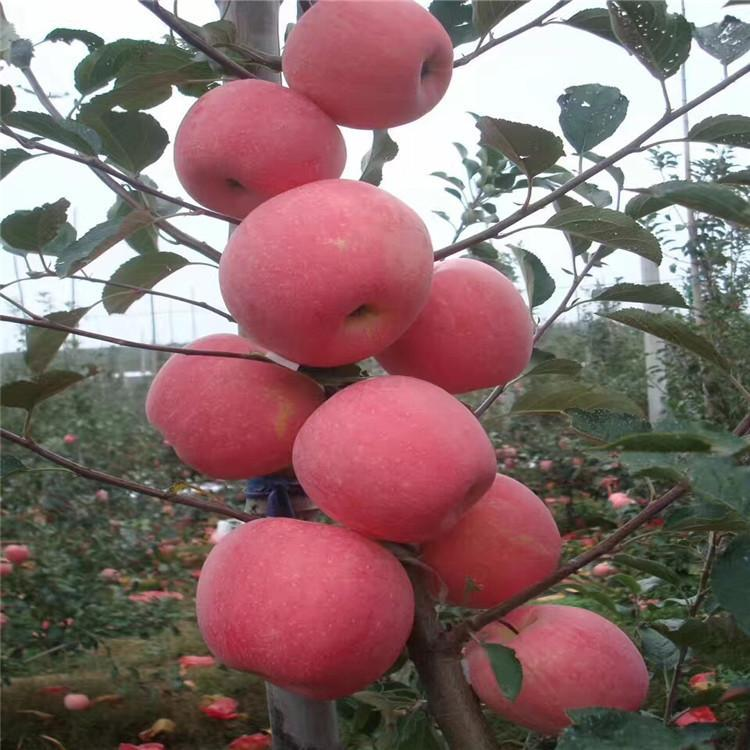apple: (218, 177, 431, 372), (197, 516, 415, 699), (290, 375, 499, 550), (144, 333, 327, 479), (171, 79, 340, 227), (457, 604, 646, 733), (368, 258, 535, 396), (280, 1, 455, 130), (424, 471, 564, 606)
